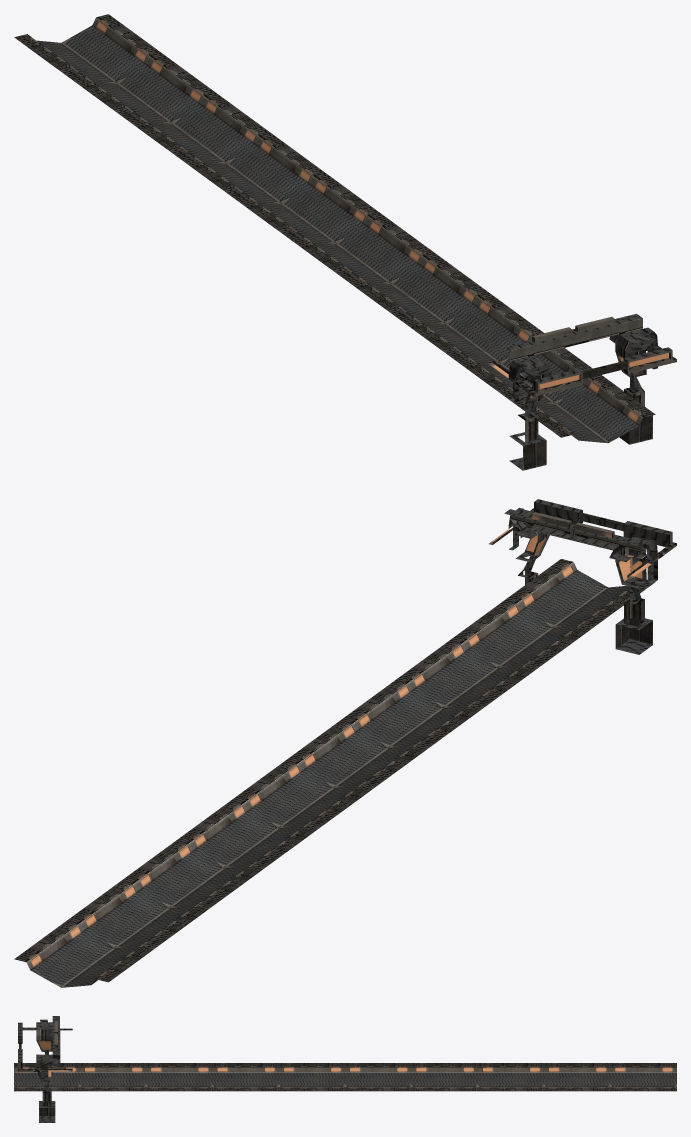
The model's file is floor.fbx.
The picture shows the model from 3 angles, top to bottom: view 1: azimuth 30°, elevation 25°; view 2: azimuth 150°, elevation 25°; view 3: azimuth 270°, elevation 25°; orthographic projection. The views are drawn at different scales.
Visible parts, largest first — view 1: Plane, Cube; view 2: Plane, Cube; view 3: Plane, Cube.
Boxes of the visible parts, bbox=[...] form: Plane: bbox=[14, 14, 655, 443]; Cube: bbox=[489, 313, 676, 470]; Plane: bbox=[14, 559, 655, 987]; Cube: bbox=[489, 499, 676, 654]; Plane: bbox=[14, 1063, 676, 1091]; Cube: bbox=[18, 1016, 72, 1122].
Size of the model in its own units: 1211 by 944 by 8000.
